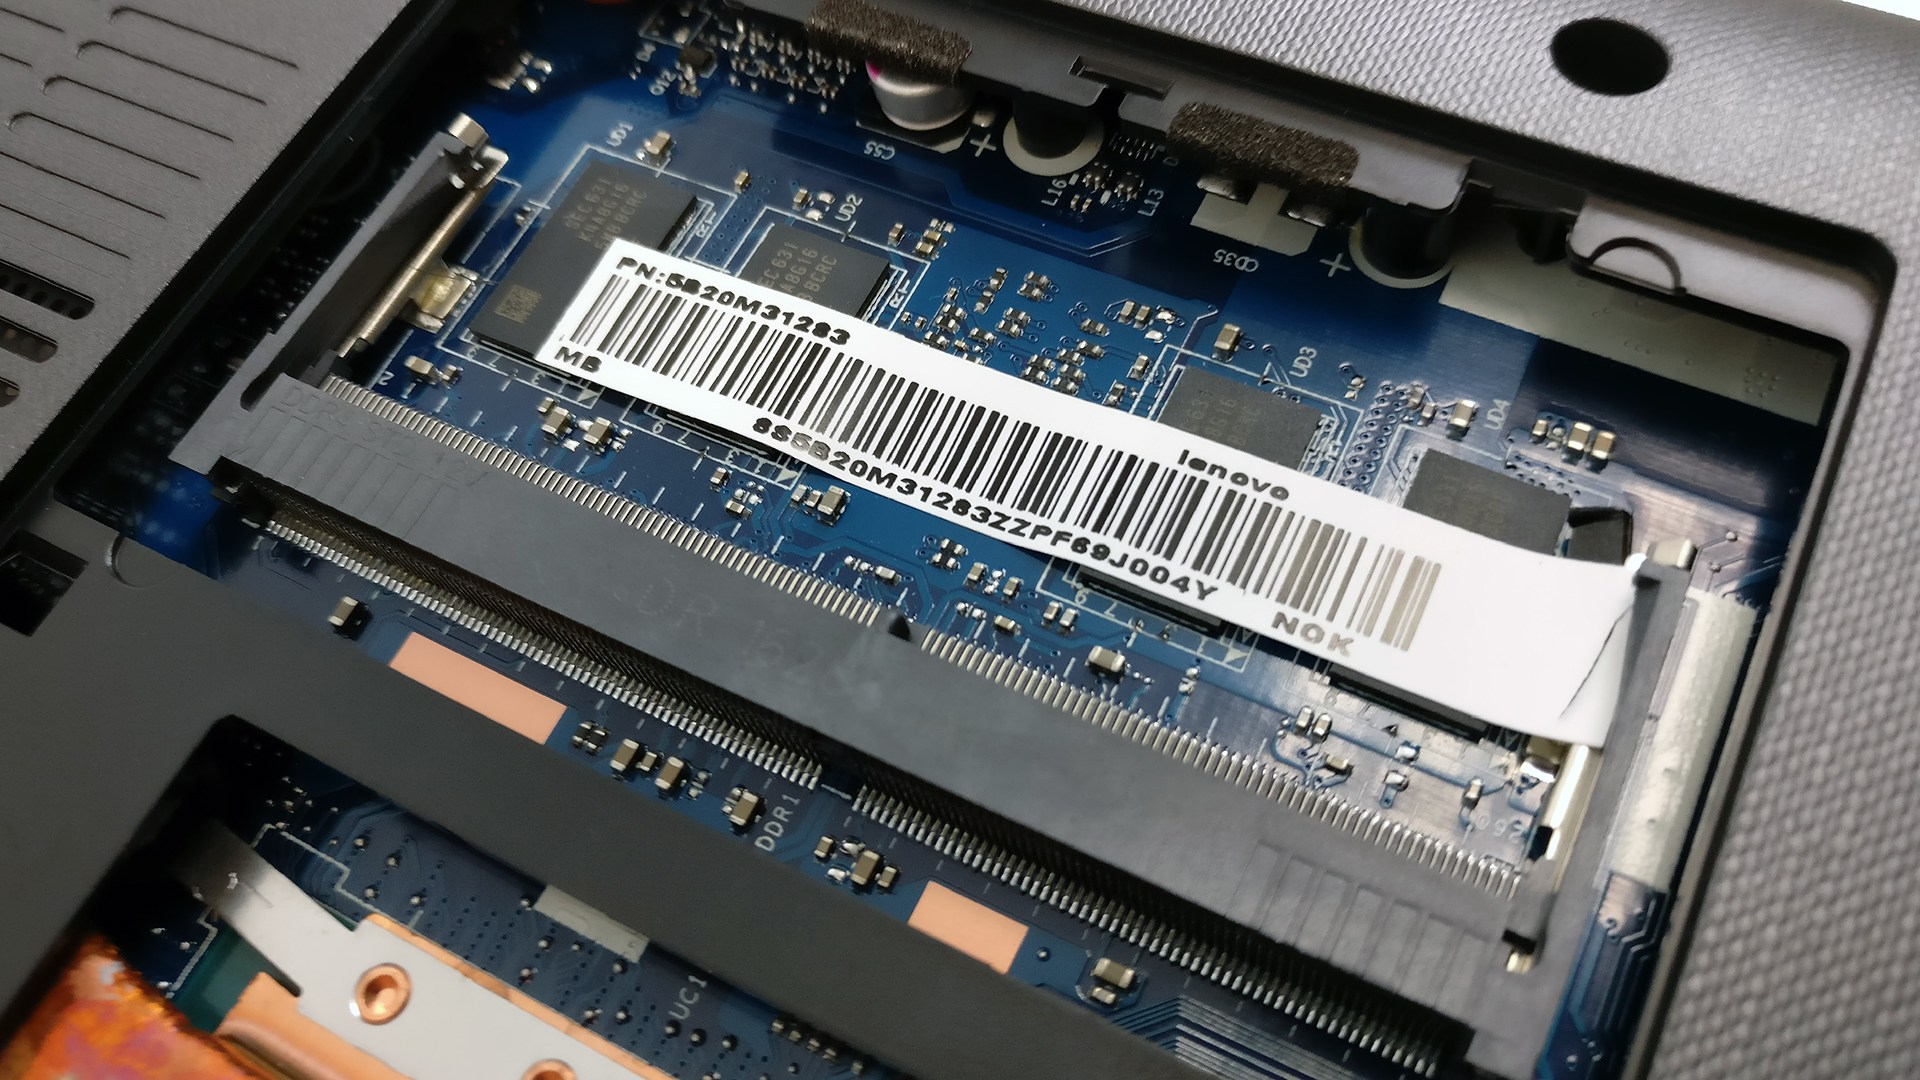ram: (319, 40, 1598, 1054)
